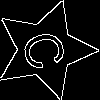C: (20, 25, 77, 74)
